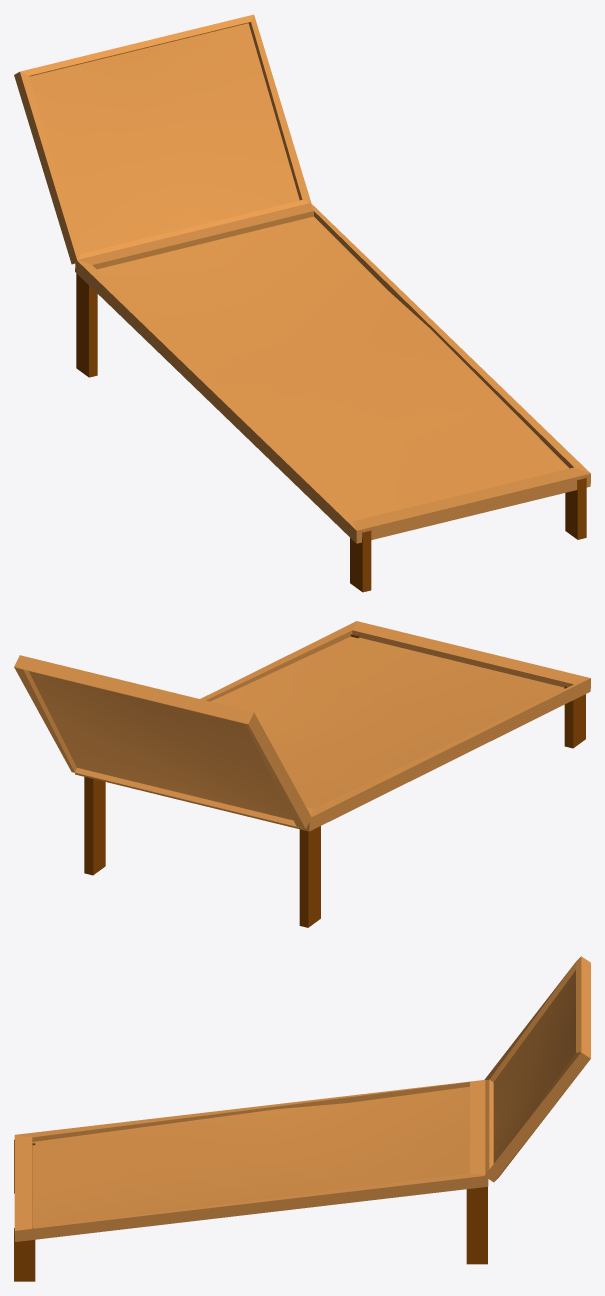
The model's file is Sunbed.gltf.
The picture shows the model from 3 angles, top to bottom: view 1: azimuth 30°, elevation 25°; view 2: azimuth 150°, elevation 25°; view 3: azimuth 270°, elevation 25°; orthographic projection. The views are drawn at different scales.
Visible parts, largest first — view 1: Cube, Cube.001, Cube.005, Cube.003; view 2: Cube, Cube.001, Cube.003, Cube.005; view 3: Cube, Cube.001, Cube.003, Cube.005.
Boxes of the visible parts, x1=… form: Cube: x1=75, y1=203, x2=590, y2=543; Cube.001: x1=14, y1=14, x2=311, y2=264; Cube.005: x1=350, y1=478, x2=586, y2=592; Cube.003: x1=76, y1=273, x2=97, y2=377; Cube: x1=75, y1=621, x2=590, y2=831; Cube.001: x1=14, y1=655, x2=311, y2=829; Cube.003: x1=84, y1=777, x2=320, y2=927; Cube.005: x1=350, y1=634, x2=585, y2=748; Cube: x1=14, y1=1080, x2=488, y2=1241; Cube.001: x1=484, y1=956, x2=590, y2=1182; Cube.003: x1=466, y1=1186, x2=487, y2=1264; Cube.005: x1=14, y1=1139, x2=35, y2=1281.
Bounding box in the file's own units: 2.11 × 2.37 × 5.36.
